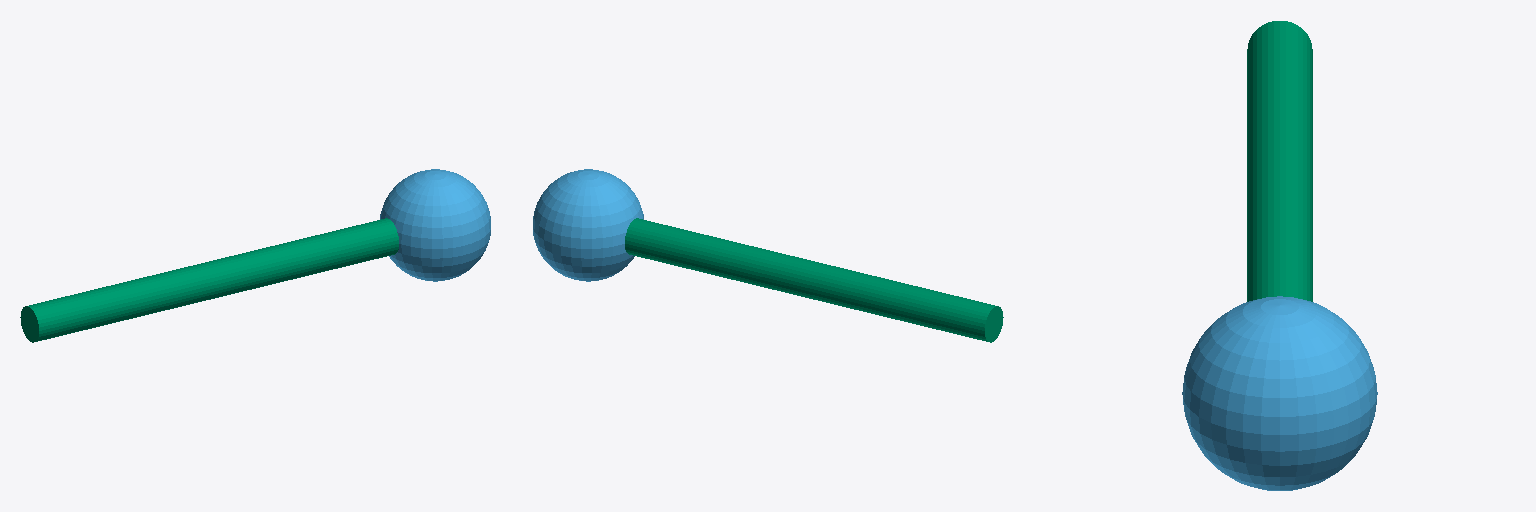
URDF robot description (pendulum):
<robot name="pendulum">

    <joint name="pendulum_joint" type="continuous">
      <origin xyz="0 0.18 0.0" rpy="0 0 0"/>
      <axis xyz="0 0 1"/>
      <parent link="world"/>
      <child link="pendulum_link"/>
      <dynamics damping="0.01"/>
      <limit effort="0" velocity="0"/>
      <safety_controller k_velocity="0"/>
    </joint>

    <link name="world">
      <inertial>
        <mass value="0" />
        <origin xyz="0.0 0.0 0" rpy="0 0 0" />
        <inertia  ixx="0" ixy="0" ixz="0"
                  iyy="0" iyz="0"
                  izz="0" />
      </inertial>
    </link>

    <link name="pendulum_link">
      <inertial>
        <mass value="0.05" />
        <origin xyz="0.25 0 0" rpy="0 0 0" />
        <inertia  ixx="0.001" ixy="0.0" ixz="0.0"
                  iyy="0.001" iyz="0.0"
                  izz="0.001" />
      </inertial>
      <visual>
        <origin xyz="0.25 0 0" rpy="0 0 0" />
        <geometry>
          <sphere radius="0.03"/>
        </geometry>
        <material name="Red" />
      </visual>
      <collision>
        <origin xyz="0 0 0.25" rpy="0 0 0" />
        <geometry>
          <sphere radius="0.03"/>
        </geometry>
      </collision>
    </link>
    
    <joint name="pendulum_fixed_joint" type="fixed">
      <origin xyz="0 0 0" rpy="0 0 0" />
      <parent link="pendulum_link"/>
      <child link="pendulum_rod_link"/>
    </joint>

    <link name="pendulum_rod_link">
      <inertial>
        <mass value="0.001" />
        <origin xyz="0 0 0" rpy="0 0 0" />
        <inertia  ixx="0.001" ixy="0.0" ixz="0.0"
                  iyy="0.001" iyz="0.0"
                  izz="0.001" />
      </inertial>
      <visual>
        <origin xyz="0.125 0 0" rpy="0 1.5708 0" />
        <geometry>
          <cylinder radius="0.01" length="0.25"/>
        </geometry>
        <material name="Red" />
      </visual>
      <collision>
        <origin xyz="0 0 0.125" rpy="0 0 0" />
        <geometry>
          <cylinder radius="0.01" length="0.25"/>
        </geometry>
      </collision>
    </link>
</robot>

--- Facts derived from the render (not from the file) ---
3 views of the same robot in one strip: view 1: azimuth 30°, elevation 25°; view 2: azimuth 150°, elevation 25°; view 3: azimuth 270°, elevation 25° (orthographic).
Model pendulum with 3 links and 2 joints (1 continuous, 1 fixed), rooted at world, posed every joint at zero.
Links seen in each view (by area): view 1: pendulum_rod_link, pendulum_link; view 2: pendulum_rod_link, pendulum_link; view 3: pendulum_link, pendulum_rod_link.
Boxes of the visible links, <box> form: pendulum_rod_link: <box>20,218,398,342</box>; pendulum_link: <box>380,169,490,281</box>; pendulum_rod_link: <box>625,218,1003,342</box>; pendulum_link: <box>533,169,643,281</box>; pendulum_link: <box>1182,296,1377,490</box>; pendulum_rod_link: <box>1247,21,1312,301</box>.
Size in the robot's own frame: 0.28 by 0.06 by 0.06 metres.
Geometry: primitives only (box / cylinder / sphere), no mesh files.